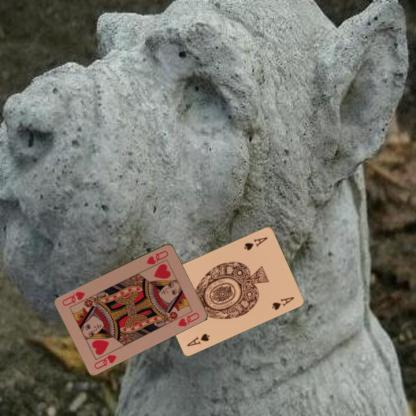As: (184, 330, 211, 348), (242, 234, 269, 251)
Qh: (143, 247, 170, 266), (91, 352, 118, 370)
